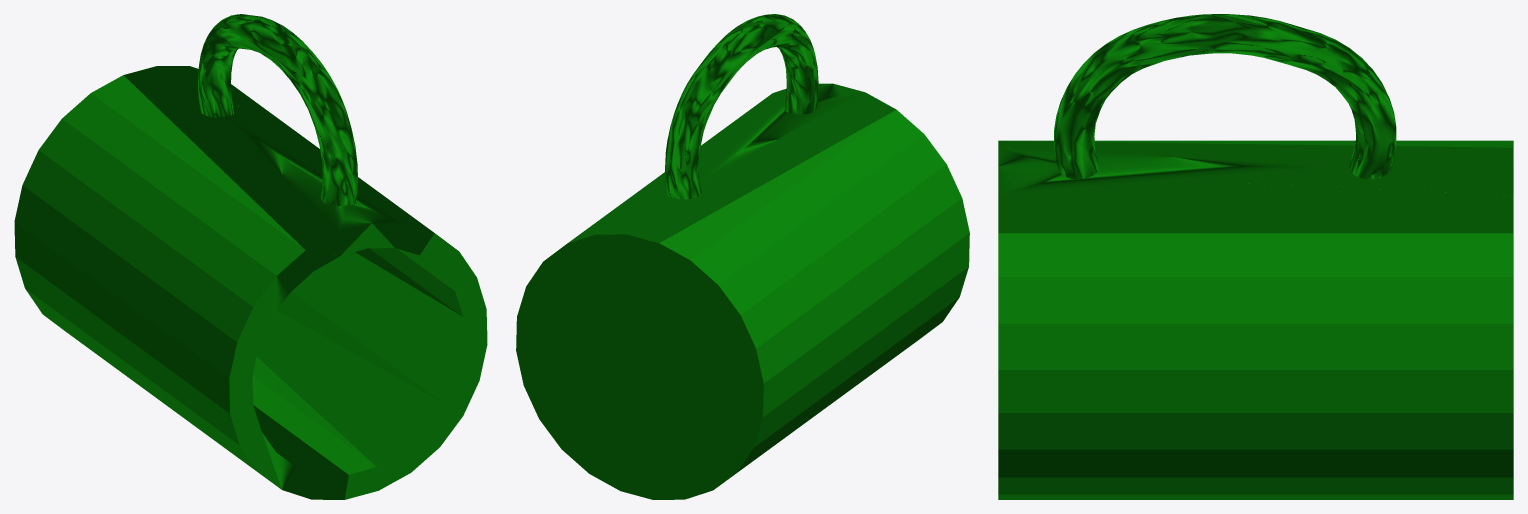
Rendered from model_align.obj.
The picture shows the model from 3 angles, left to right: view 1: azimuth 30°, elevation 25°; view 2: azimuth 150°, elevation 25°; view 3: azimuth 270°, elevation 25°; orthographic projection. The views are drawn at different scales.
Size of the model in its own units: 0.0707 by 0.1037 by 0.1019.
